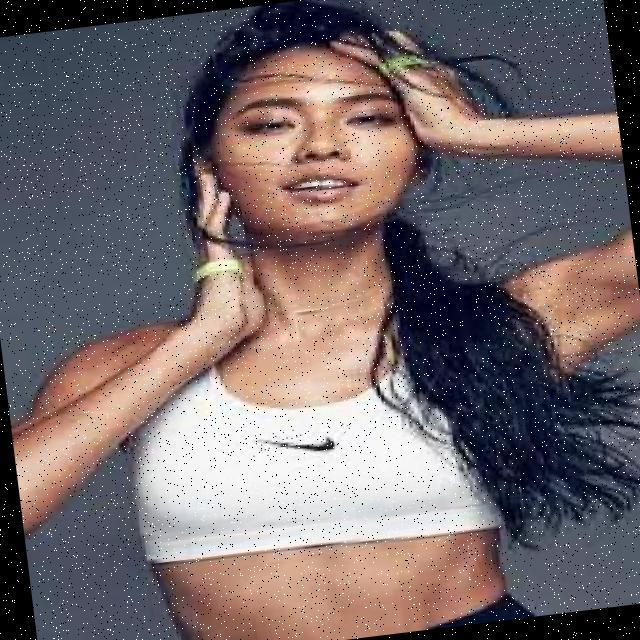Nike: (244, 421, 352, 458)
